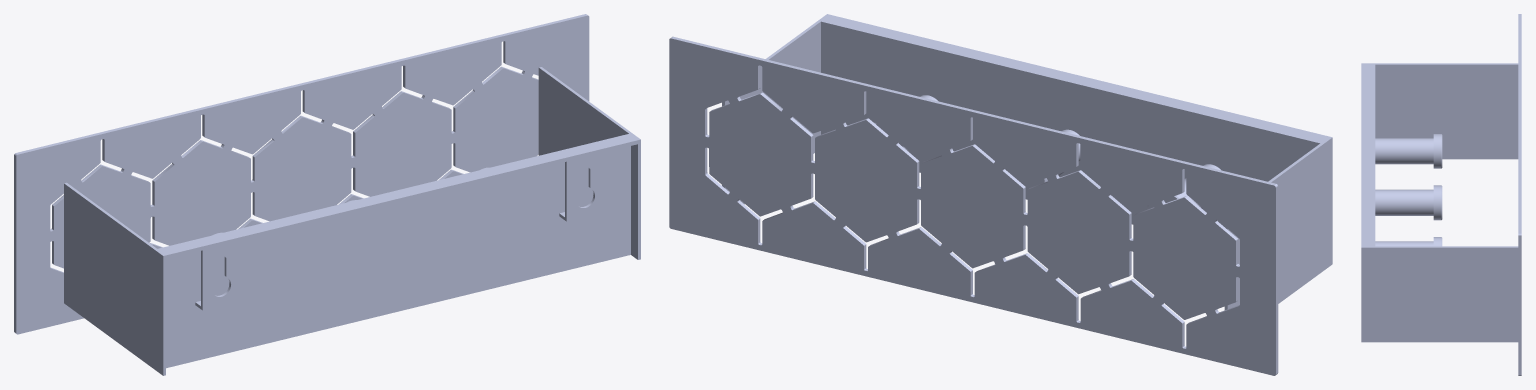
File: bee-hook.091b8f42df.glb
3 views of the same model, side by side, from view 1: azimuth 30°, elevation 25°; view 2: azimuth 150°, elevation 25°; view 3: azimuth 270°, elevation 25° (orthographic). The views are drawn at different scales.
Visible parts, largest first — view 1: NAUO1; view 2: NAUO1; view 3: NAUO1.
Boxes of the visible parts, x1,y1,x2,y2 form: NAUO1: [14, 14, 640, 375]; NAUO1: [669, 14, 1332, 375]; NAUO1: [1361, 14, 1521, 375].
Bounding box in the file's own units: 0.3 × 0.09 × 0.092.
